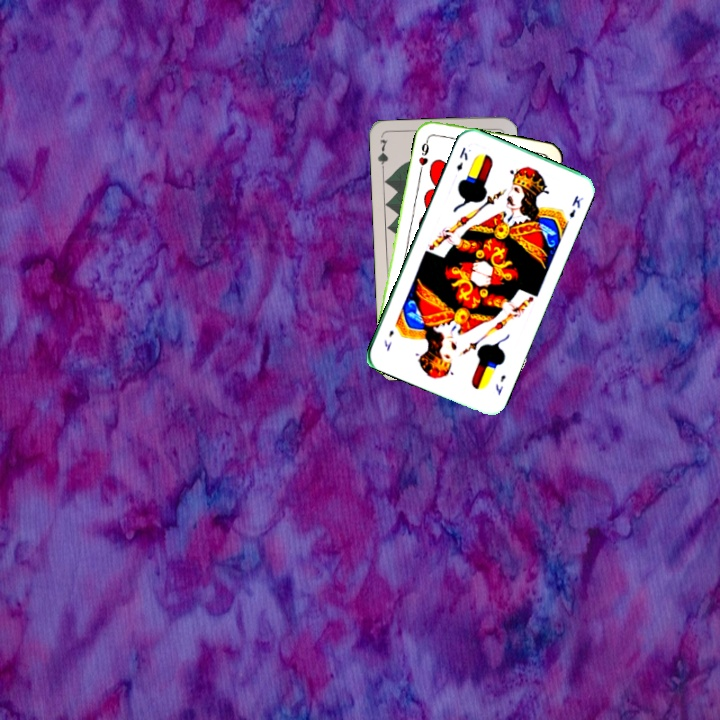EK: (452, 143, 470, 173), (491, 370, 508, 398)
G7: (374, 135, 391, 176)
H9: (415, 133, 432, 173)
